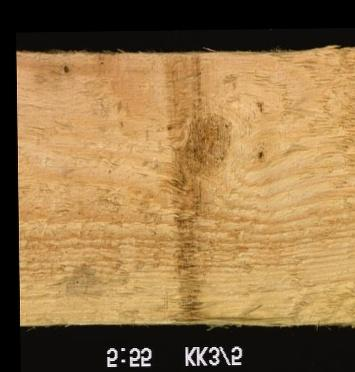small_knot: (252, 147, 265, 162), (59, 61, 70, 77)
sound_knot: (170, 109, 235, 182)
